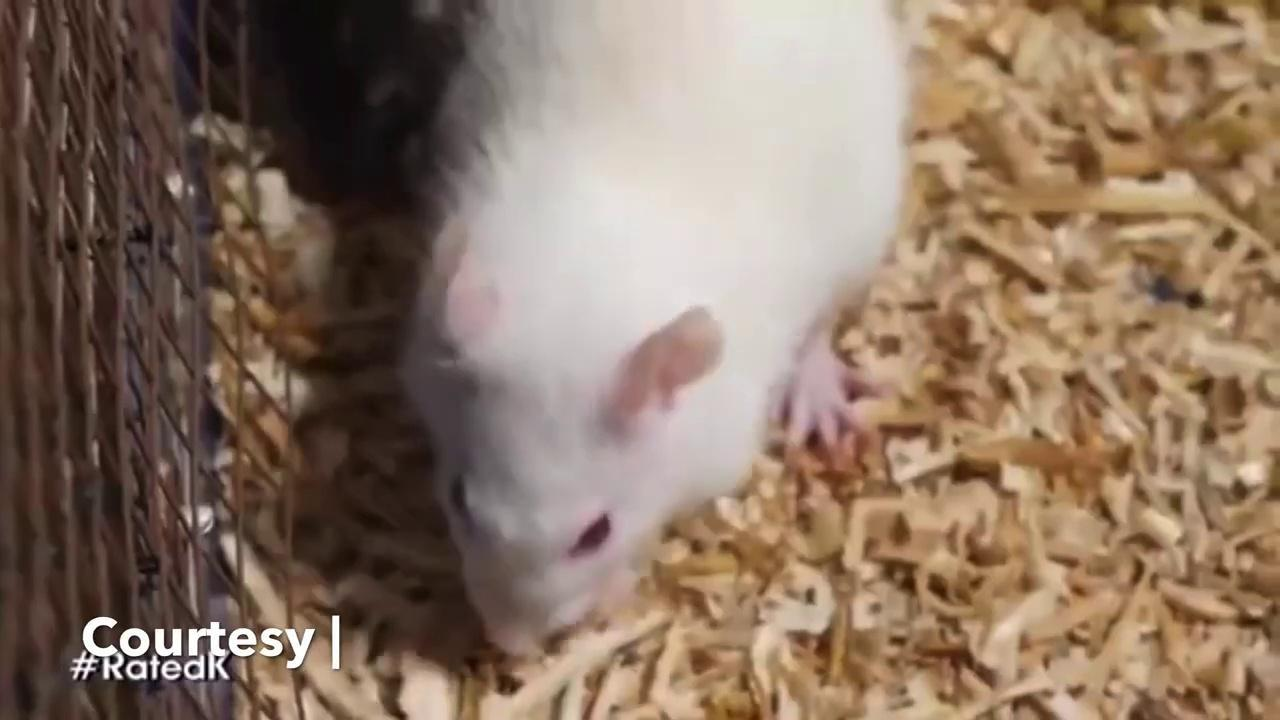rat: (404, 0, 908, 653)
